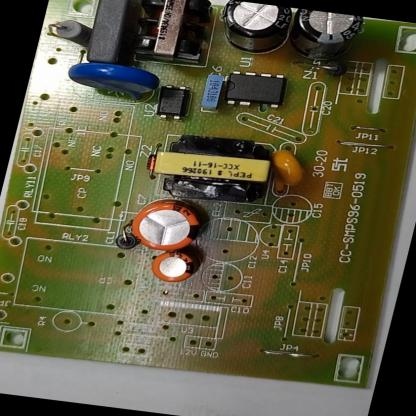Cap1: (119, 192, 219, 258)
Cap2: (141, 243, 210, 289)
Cap3: (209, 0, 302, 61)
Cap4: (282, 8, 367, 68), (41, 14, 95, 47)
MOSFET: (210, 63, 294, 114)
Mov: (61, 55, 168, 106)
Transformer: (141, 124, 288, 210), (118, 0, 224, 69)
